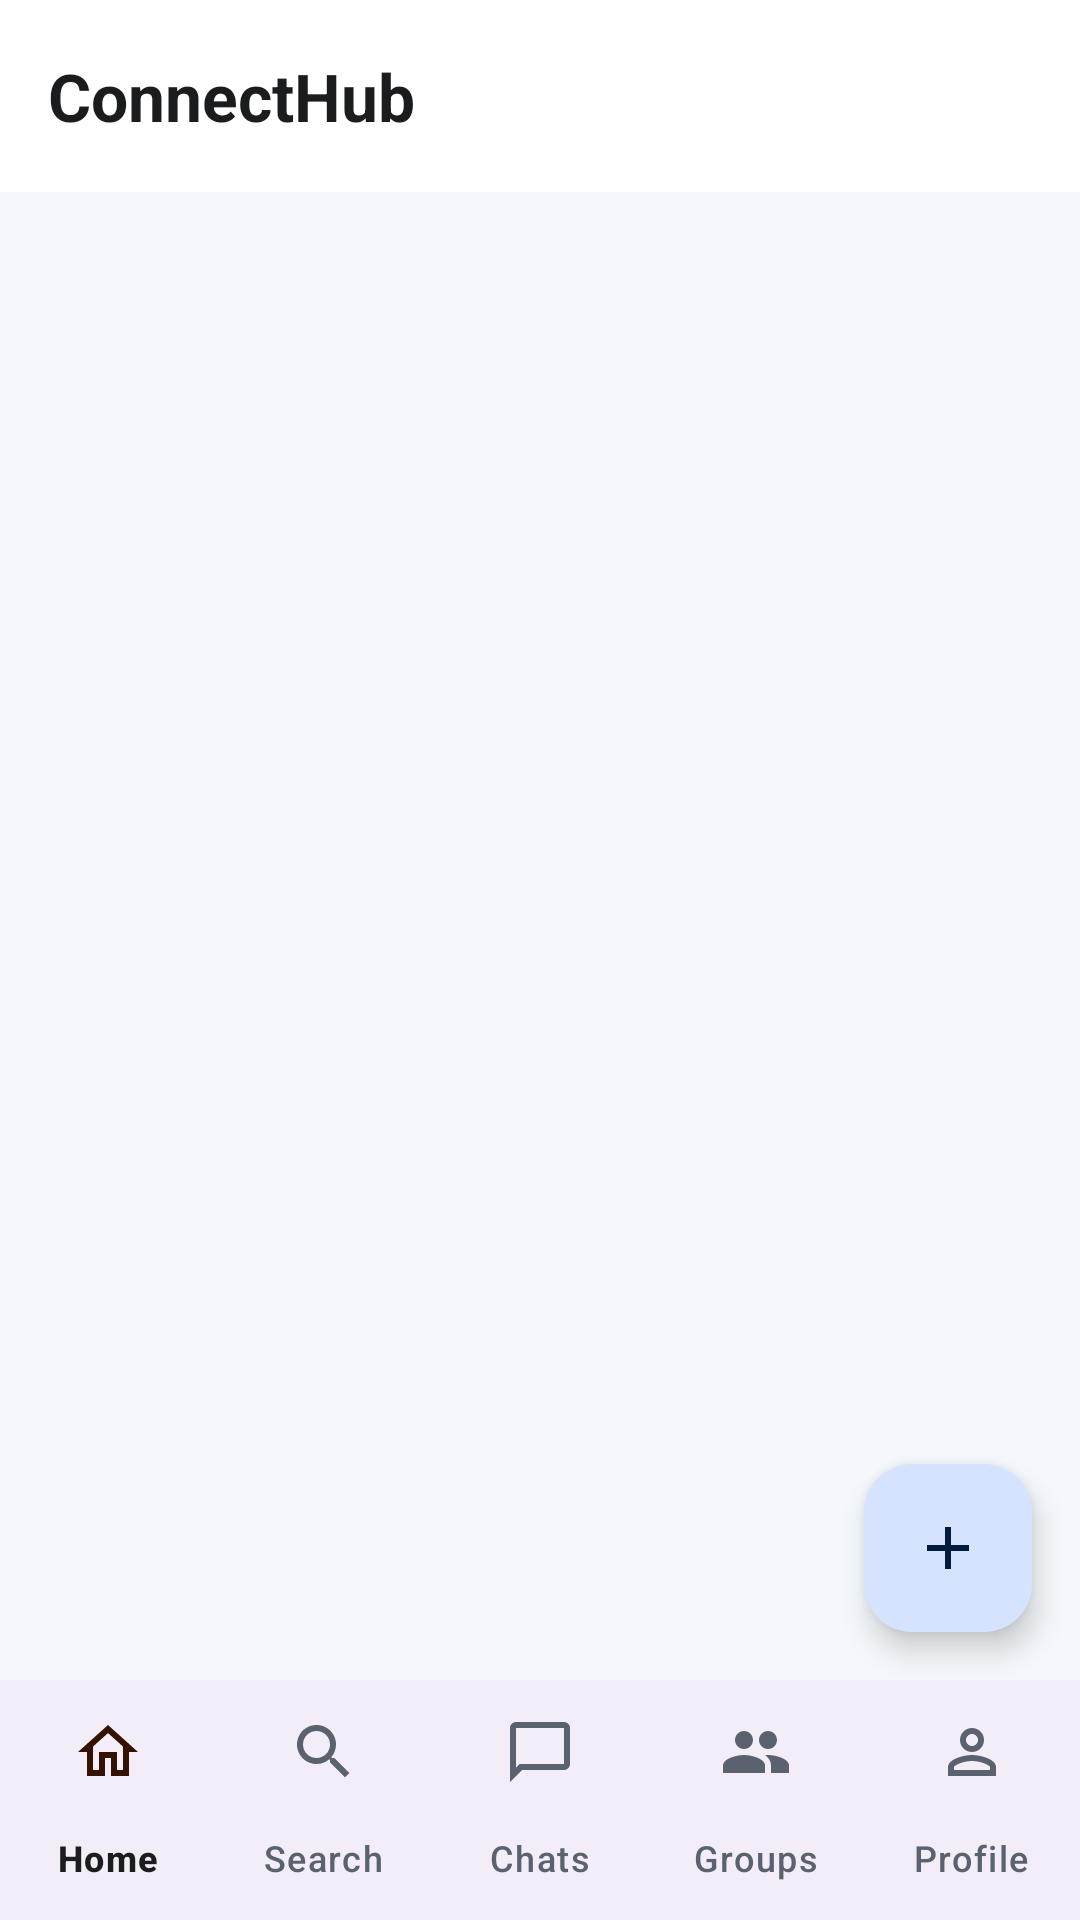

Icon click points for this 1080px×1920px phone screenshot, format [x,y]:
Create post: [948,1548]
